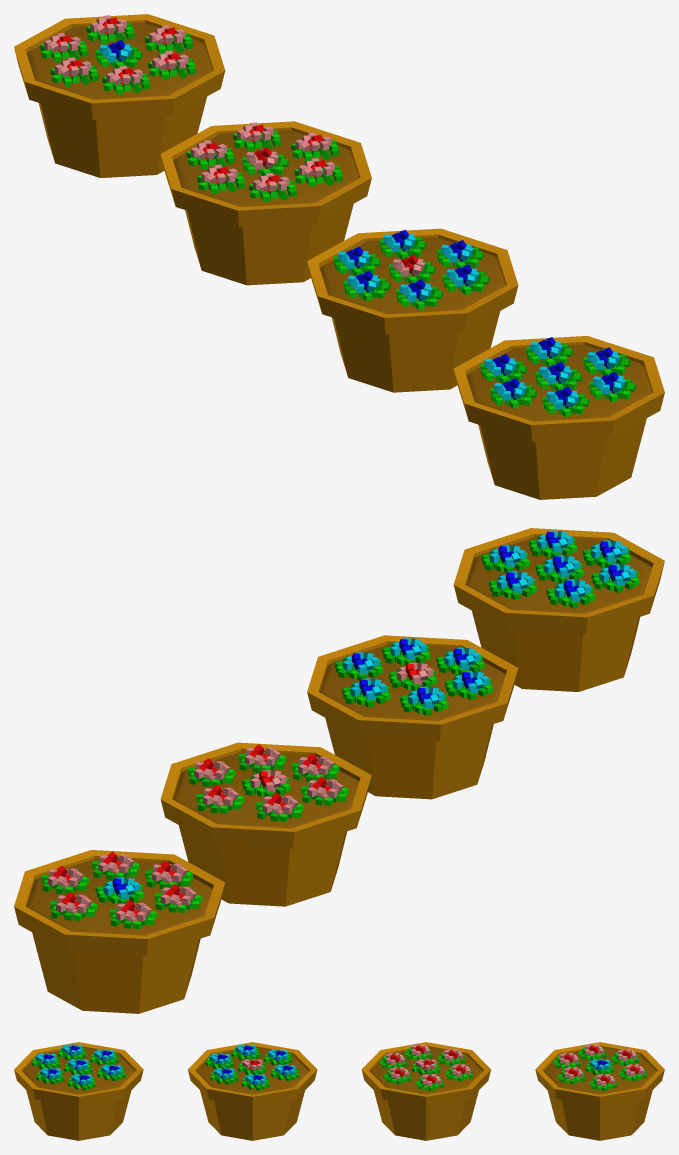
File: FlowerPotGroup.fbx
The picture shows the model from 3 angles, top to bottom: view 1: azimuth 30°, elevation 25°; view 2: azimuth 150°, elevation 25°; view 3: azimuth 270°, elevation 25°; orthographic projection. The views are drawn at different scales.
Parts seen in each view (by area): view 1: FlowerPotB, FlowerPotA, FlowerPotC, FlowerPotD; view 2: FlowerPotC, FlowerPotD, FlowerPotA, FlowerPotB; view 3: FlowerPotD, FlowerPotA, FlowerPotC, FlowerPotB.
Boxes of the visible parts, box(x1,y1,x2,y2) form: FlowerPotB: box(453, 336, 664, 499); FlowerPotA: box(160, 121, 371, 285); FlowerPotC: box(14, 14, 225, 177); FlowerPotD: box(307, 228, 518, 392); FlowerPotC: box(14, 850, 225, 1013); FlowerPotD: box(307, 635, 518, 799); FlowerPotA: box(160, 742, 371, 906); FlowerPotB: box(453, 528, 664, 691); FlowerPotD: box(188, 1042, 317, 1140); FlowerPotA: box(361, 1042, 490, 1140); FlowerPotC: box(535, 1042, 664, 1140); FlowerPotB: box(14, 1042, 143, 1140).
Size of the model in its own units: 224 by 119 by 1124.
